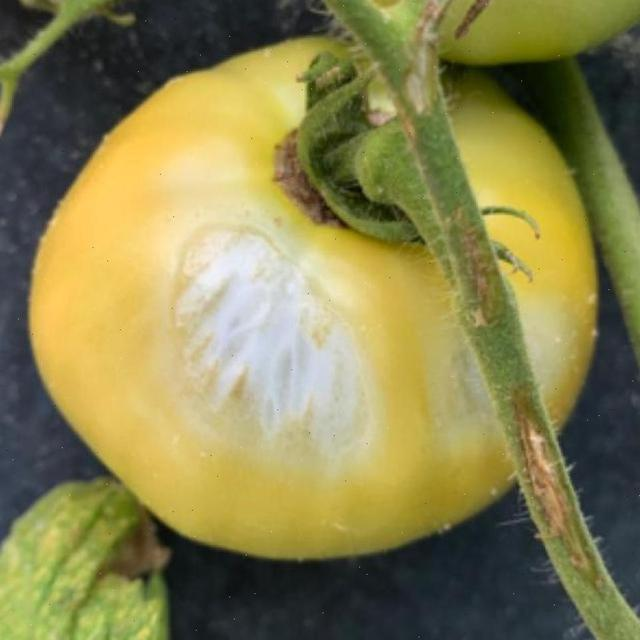Sunscald Fruit: (99, 116, 326, 240)
